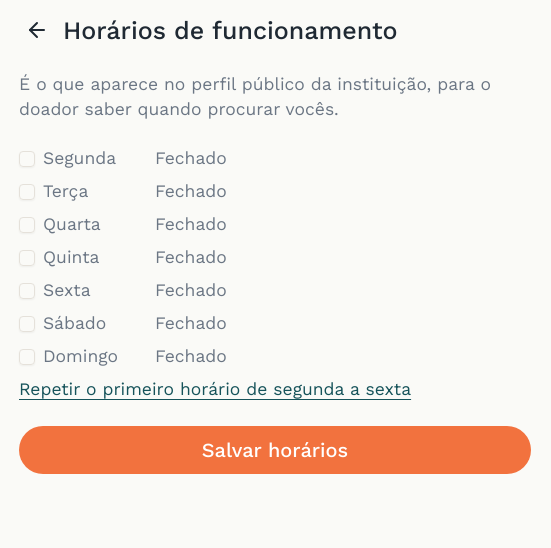
Test: OngHoursPage › não salva com horário incompleto
Click the checkbox named "Terça" next to "Terça": (27, 192) [19,184,35,200]
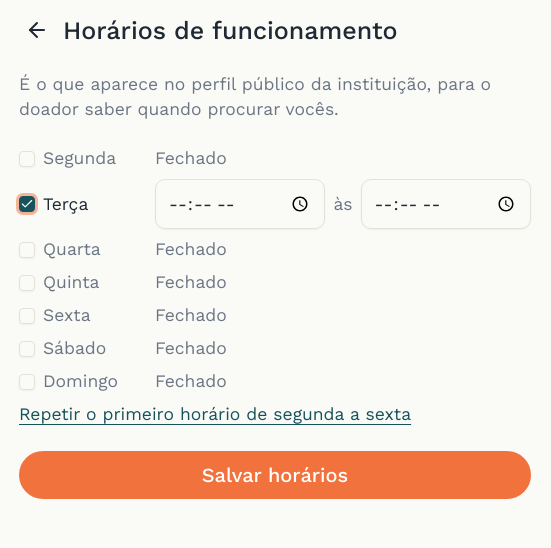
Click the button "Salvar horários": (275, 475) [19,451,531,499]
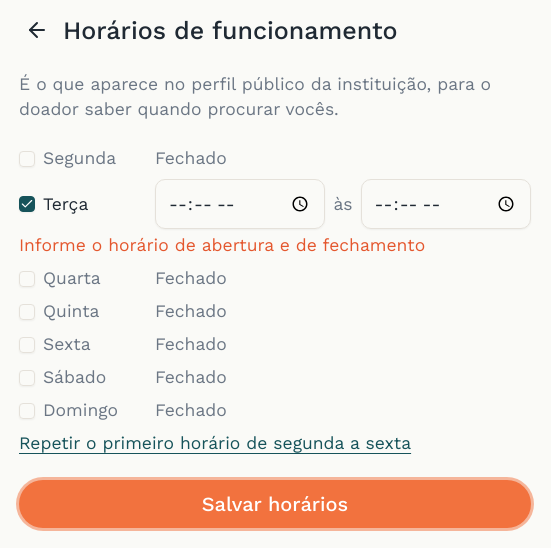
Result: the text "Informe o horário de abertura e de fechamento" is shown at [19,235,425,255]
